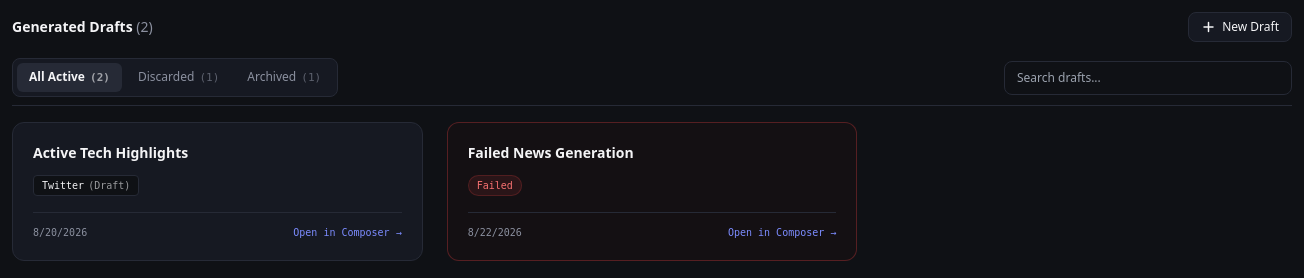
Scenario: WorkflowDraftsList › switches to Archived tab and displays archived drafts
Click the button with test id "filter-tab-archived": (284, 78) [235,63,333,92]
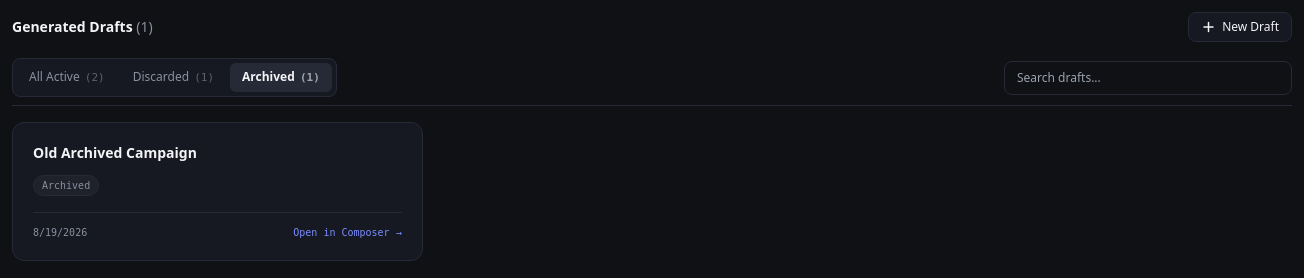
Expected: the heading "Old Archived Campaign" is shown, [33,143,197,163]
Expected: the heading "Active Tech Highlights" is gone
